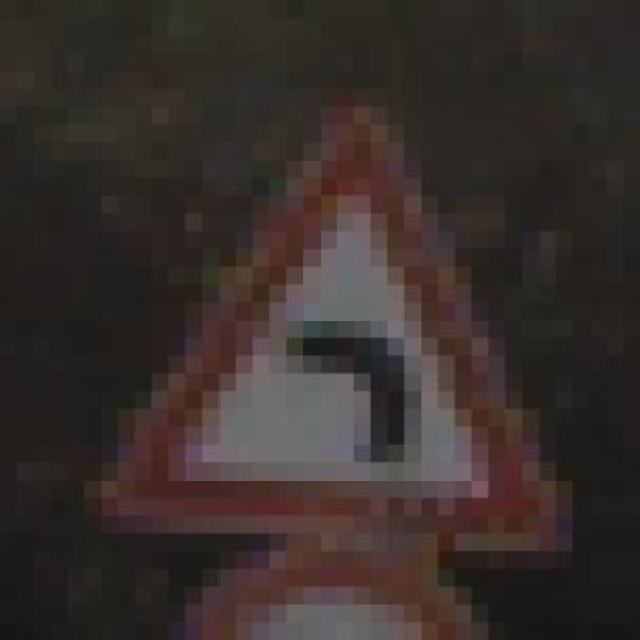Dangerous Left Curve Ahead: (101, 71, 590, 587)
